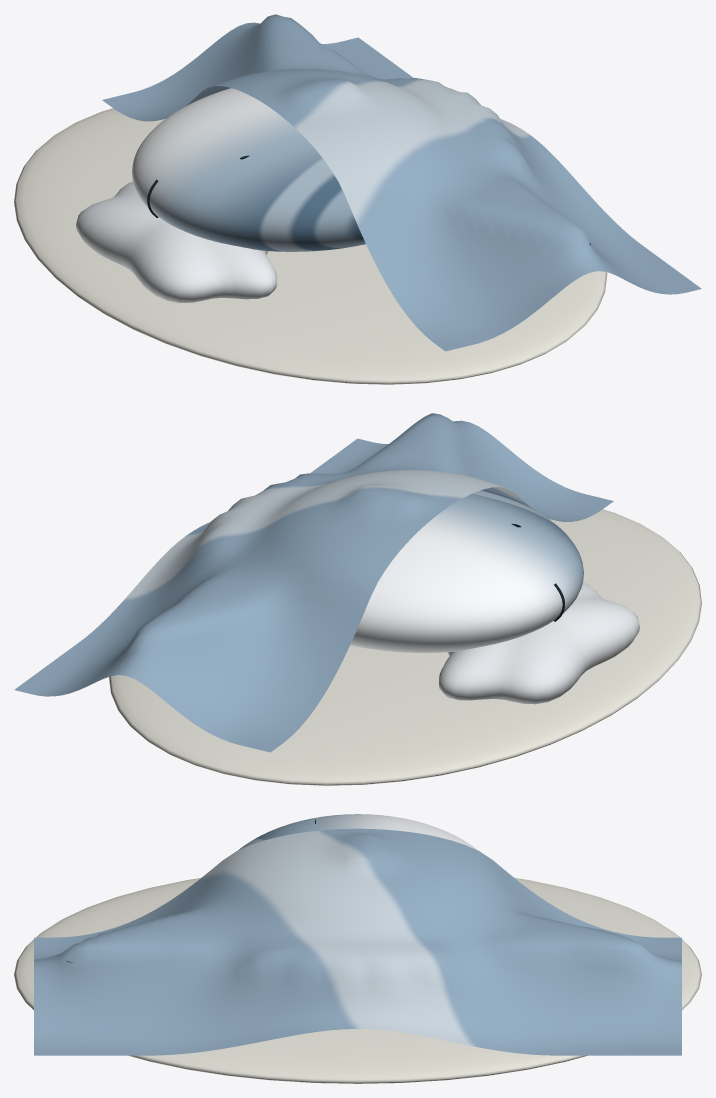
Rendered from covered.glb.
The picture shows the model from 3 angles, top to bottom: view 1: azimuth 30°, elevation 25°; view 2: azimuth 150°, elevation 25°; view 3: azimuth 270°, elevation 25°; orthographic projection. The views are drawn at different scales.
Parts seen in each view (by area): view 1: KiabouBlanket, KiabouBed, KiabouRestBody, KiabouPillow; view 2: KiabouBlanket, KiabouBed, KiabouRestBody, KiabouPillow; view 3: KiabouBlanket, KiabouBed, KiabouRestBody.
Part boxes in pixels (x1,y1,x2,y2): KiabouBlanket: (102, 14, 701, 351); KiabouBed: (14, 108, 607, 384); KiabouRestBody: (132, 88, 590, 251); KiabouPillow: (76, 181, 276, 302); KiabouBlanket: (14, 413, 613, 752); KiabouBed: (109, 509, 701, 785); KiabouRestBody: (350, 489, 583, 652); KiabouPillow: (439, 583, 639, 704); KiabouBlanket: (34, 828, 681, 1055); KiabouBed: (14, 878, 701, 1083); KiabouRestBody: (66, 814, 477, 962).
Bounding box in the file's own units: 0.228 × 0.0768 × 0.308.
Materials: 7 (3 with a texture image).
